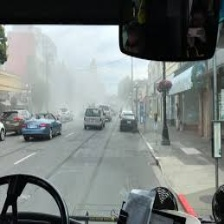smoke: (38, 49, 96, 102)
